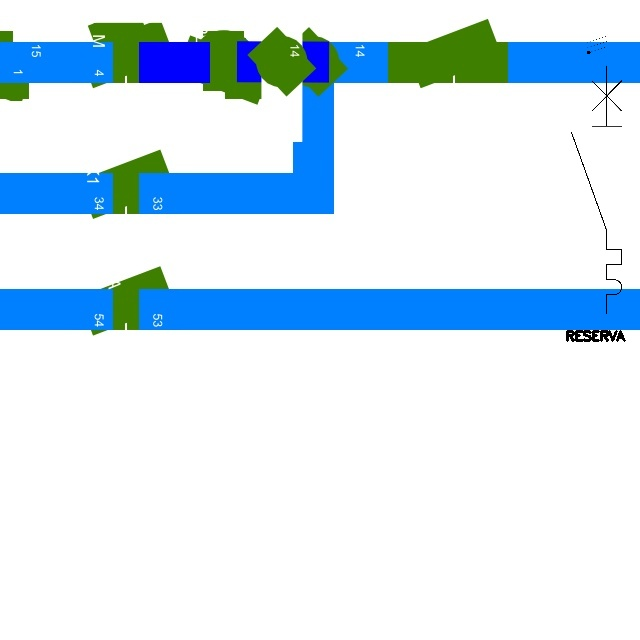interruptor_termomagnetico: (565, 59, 628, 319)
